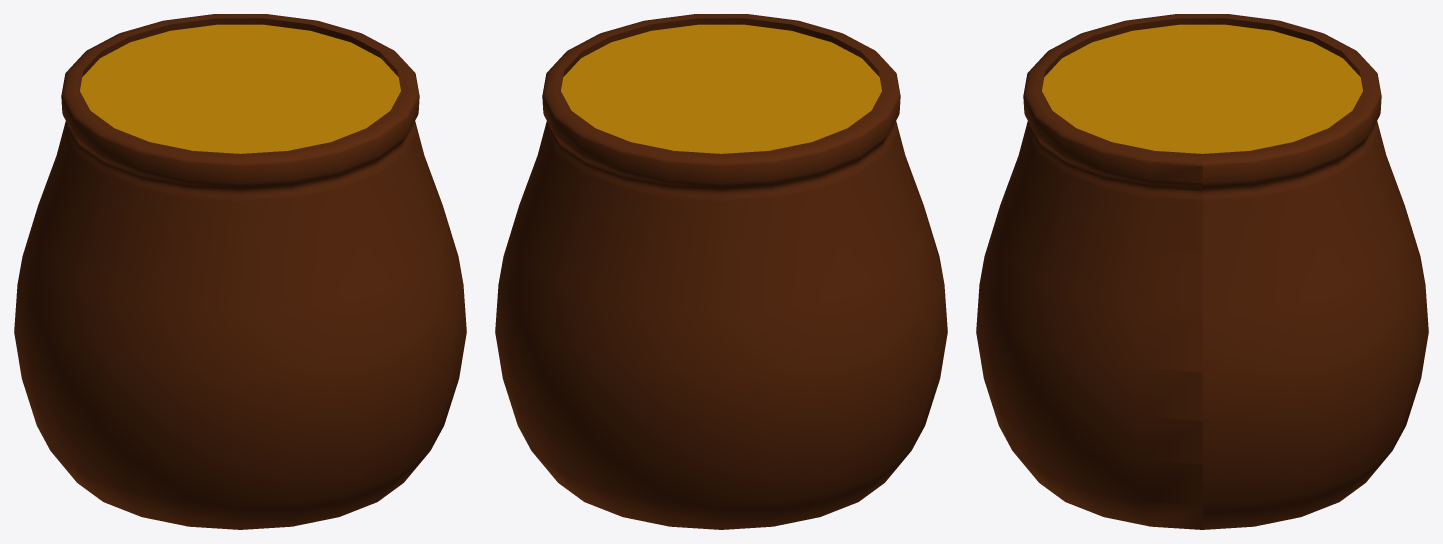
The model's file is HoneyPot.FBX.
3 views of the same model, side by side, from view 1: azimuth 30°, elevation 25°; view 2: azimuth 150°, elevation 25°; view 3: azimuth 270°, elevation 25° (orthographic).
Visible parts, largest first — view 1: fraktal_ob, Cylinder001; view 2: fraktal_ob, Cylinder001; view 3: fraktal_ob, Cylinder001.
Boxes of the visible parts, box(x1,y1,x2,y2) form: fraktal_ob: box(14, 14, 466, 529); Cylinder001: box(80, 24, 400, 153); fraktal_ob: box(495, 14, 947, 529); Cylinder001: box(561, 24, 881, 153); fraktal_ob: box(976, 14, 1428, 529); Cylinder001: box(1042, 24, 1362, 153).
Bounding box in the file's own units: 16.15 × 15.19 × 16.19.
